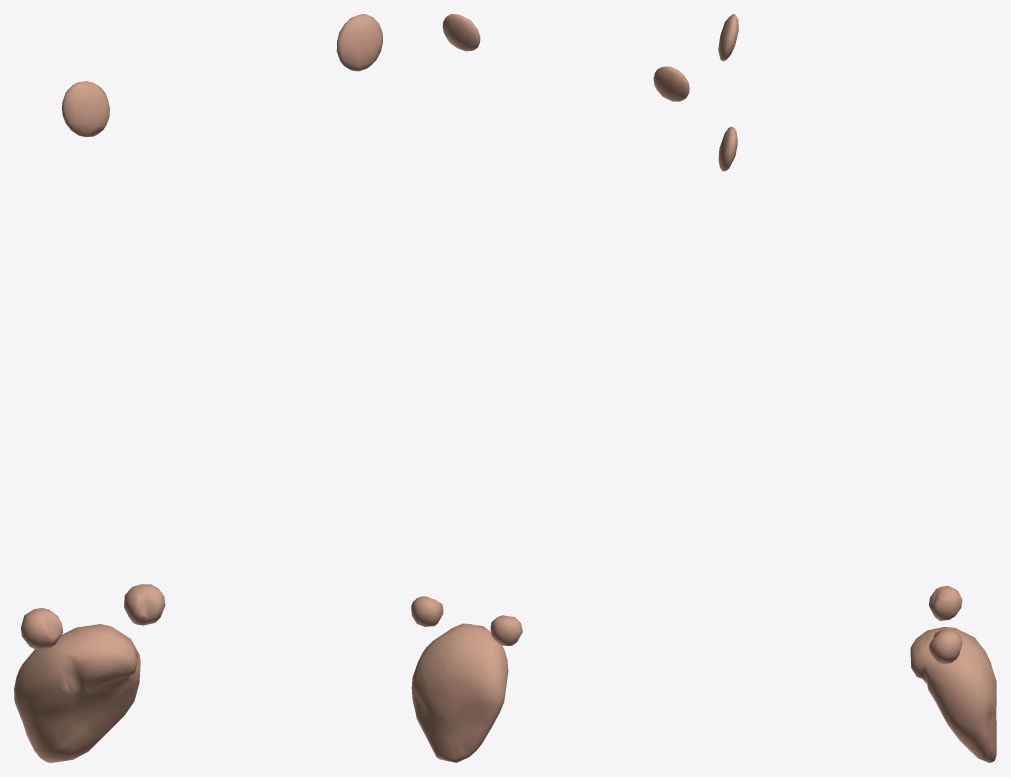
File: pediatric_neonate_female.reproductive.LOD2.glb
3 views of the same model, side by side, from view 1: azimuth 30°, elevation 25°; view 2: azimuth 150°, elevation 25°; view 3: azimuth 270°, elevation 25° (orthographic). The views are drawn at different scales.
Visible parts, largest first — view 1: PEDIATRIC.NEONATE.FEMALE.REPRODUCTIVE.UTERUS, PEDIATRIC.NEONATE.FEMALE.REPRODUCTIVE.BREAST_ADIPOSE_TISSUE. (×2), PEDIATRIC.NEONATE.FEMALE.REPRODUCTIVE.OVARY.R, PEDIATRIC.NEONATE.FEMALE.REPRODUCTIVE.OVARY.L; view 2: PEDIATRIC.NEONATE.FEMALE.REPRODUCTIVE.UTERUS, PEDIATRIC.NEONATE.FEMALE.REPRODUCTIVE.BREAST_ADIPOSE_TISSUE. (×2), PEDIATRIC.NEONATE.FEMALE.REPRODUCTIVE.OVARY.L, PEDIATRIC.NEONATE.FEMALE.REPRODUCTIVE.OVARY.R; view 3: PEDIATRIC.NEONATE.FEMALE.REPRODUCTIVE.UTERUS, PEDIATRIC.NEONATE.FEMALE.REPRODUCTIVE.BREAST_ADIPOSE_TISSUE. (×2), PEDIATRIC.NEONATE.FEMALE.REPRODUCTIVE.OVARY.R, PEDIATRIC.NEONATE.FEMALE.REPRODUCTIVE.OVARY.L.
Part boxes in pixels (x1,y1,x2,y2): PEDIATRIC.NEONATE.FEMALE.REPRODUCTIVE.UTERUS: [14, 624, 140, 762]; PEDIATRIC.NEONATE.FEMALE.REPRODUCTIVE.BREAST_ADIPOSE_TISSUE. (×2): [62, 14, 382, 137]; PEDIATRIC.NEONATE.FEMALE.REPRODUCTIVE.OVARY.R: [20, 608, 63, 649]; PEDIATRIC.NEONATE.FEMALE.REPRODUCTIVE.OVARY.L: [124, 584, 165, 625]; PEDIATRIC.NEONATE.FEMALE.REPRODUCTIVE.UTERUS: [411, 623, 508, 762]; PEDIATRIC.NEONATE.FEMALE.REPRODUCTIVE.BREAST_ADIPOSE_TISSUE. (×2): [442, 14, 689, 101]; PEDIATRIC.NEONATE.FEMALE.REPRODUCTIVE.OVARY.L: [411, 596, 443, 626]; PEDIATRIC.NEONATE.FEMALE.REPRODUCTIVE.OVARY.R: [490, 615, 522, 645]; PEDIATRIC.NEONATE.FEMALE.REPRODUCTIVE.UTERUS: [910, 627, 996, 762]; PEDIATRIC.NEONATE.FEMALE.REPRODUCTIVE.BREAST_ADIPOSE_TISSUE. (×2): [718, 14, 738, 171]; PEDIATRIC.NEONATE.FEMALE.REPRODUCTIVE.OVARY.R: [929, 586, 962, 620]; PEDIATRIC.NEONATE.FEMALE.REPRODUCTIVE.OVARY.L: [929, 629, 962, 663].
Size of the model in its own units: 0.062 by 0.1527 by 0.0561.
